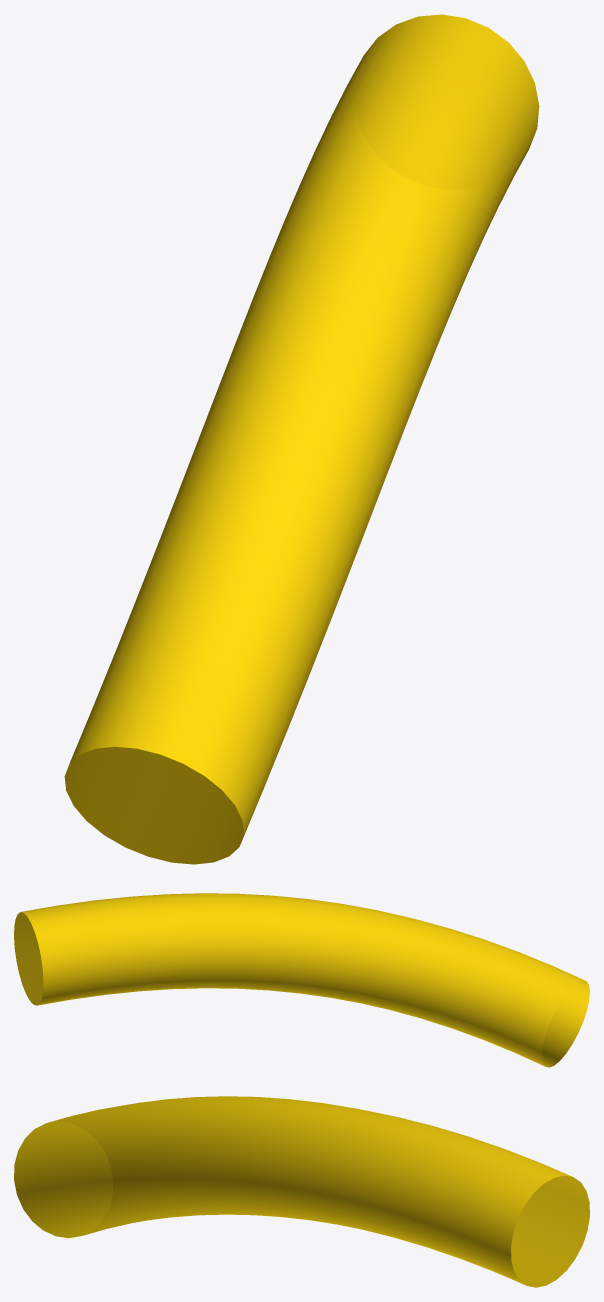
The model's file is Event_421278790_track_30.fbx.
3 renders of one model, top to bottom at view 1: azimuth 30°, elevation 25°; view 2: azimuth 150°, elevation 25°; view 3: azimuth 270°, elevation 25°, orthographic. The views are drawn at different scales.
Parts seen in each view (by area): view 1: Model; view 2: Model; view 3: Model.
Boxes of the visible parts, x1,y1,x2,y2 form: Model: [64, 14, 539, 864]; Model: [14, 893, 589, 1067]; Model: [14, 1096, 589, 1287].
Size of the model in its own units: 0.1953 by 0.0961 by 0.1947.
